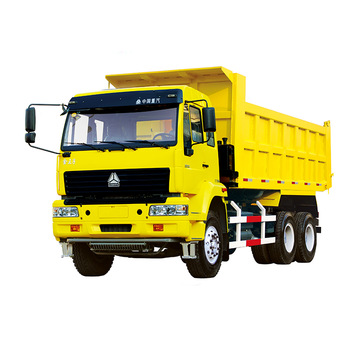truck: (22, 66, 332, 275)
